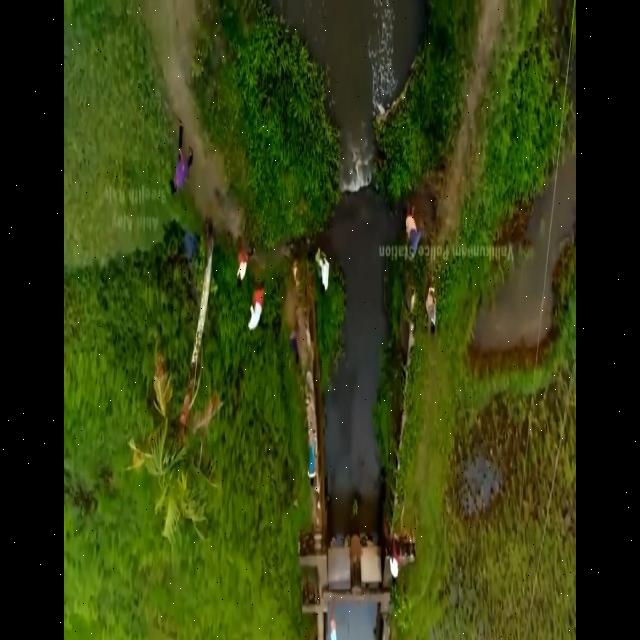humans: (168, 111, 193, 204), (403, 196, 422, 268), (234, 232, 257, 288), (313, 240, 332, 300), (248, 279, 264, 339), (423, 282, 438, 340), (305, 427, 318, 489), (388, 532, 401, 590), (202, 216, 214, 271)
